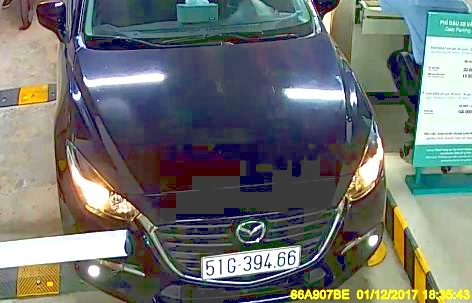plate: (201, 246, 301, 274)
